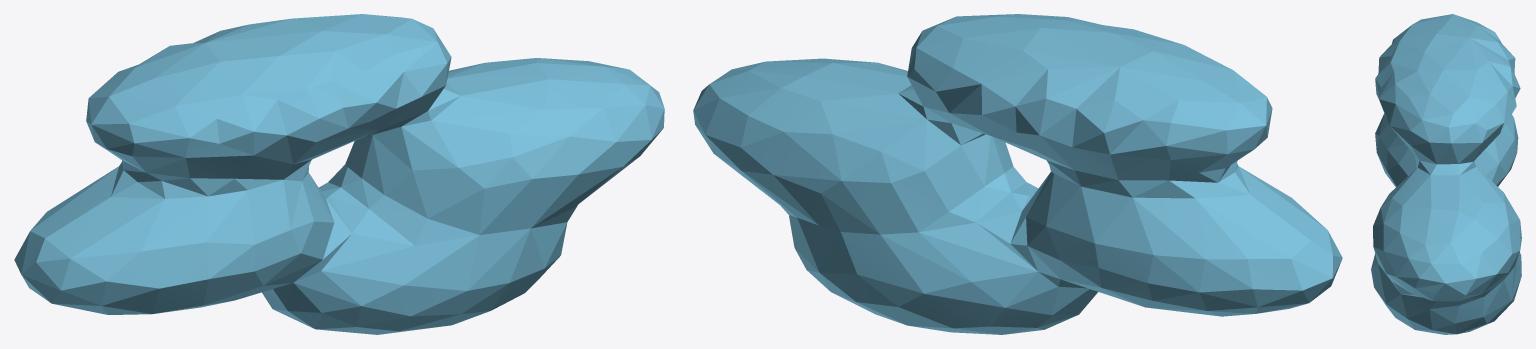
Rendered from oval_cloud_8.fbx.
The picture shows the model from 3 angles, left to right: view 1: azimuth 30°, elevation 25°; view 2: azimuth 150°, elevation 25°; view 3: azimuth 270°, elevation 25°; orthographic projection. The views are drawn at different scales.
Visible parts, largest first — view 1: cloud_68; view 2: cloud_68; view 3: cloud_68.
Part boxes in pixels (x1,y1,x2,y2): cloud_68: [14, 14, 664, 334]; cloud_68: [693, 14, 1342, 334]; cloud_68: [1371, 14, 1521, 334].
Bounding box in the file's own units: 544 × 252 × 162.
